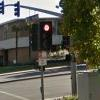Traffic light: (27, 15, 57, 59)
